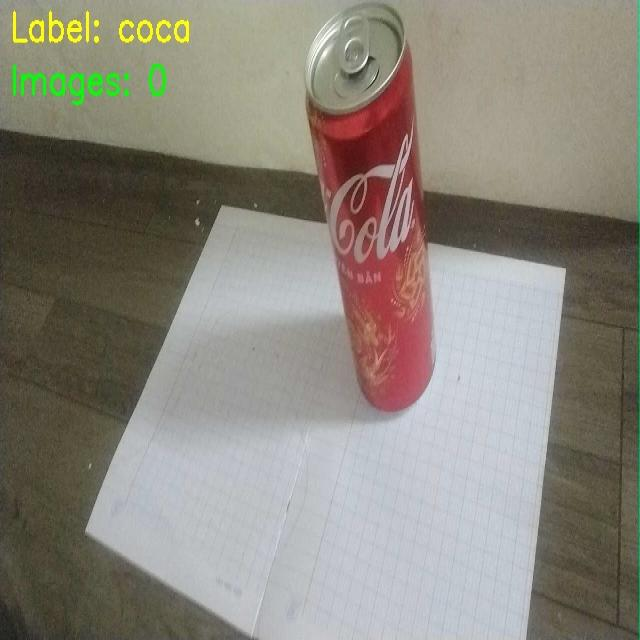Coca: (269, 0, 485, 452)
